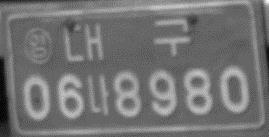0: (218, 65, 251, 115), (22, 74, 52, 121)
6: (57, 72, 86, 120)
8: (181, 68, 215, 117), (111, 69, 144, 119)
9: (147, 69, 177, 119)
나: (85, 73, 111, 116)
대구_D: (61, 17, 192, 64)
영: (22, 26, 54, 66)
